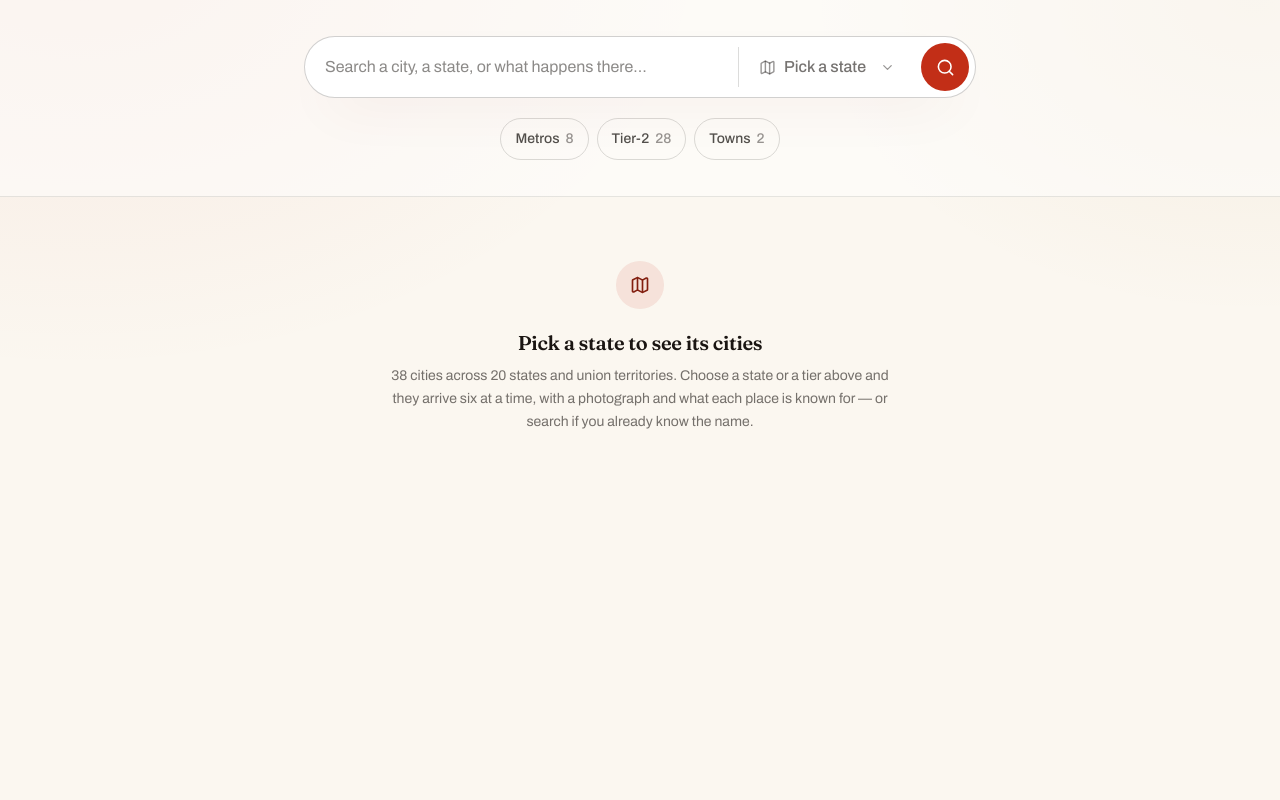
CityExplorer › goes back to the state picker when the search is cleared
This screenshot has width=1280, height=800.
Type "Mainpuri" into the search field named "Search cities" at (522, 67), box [305,37,738,97]
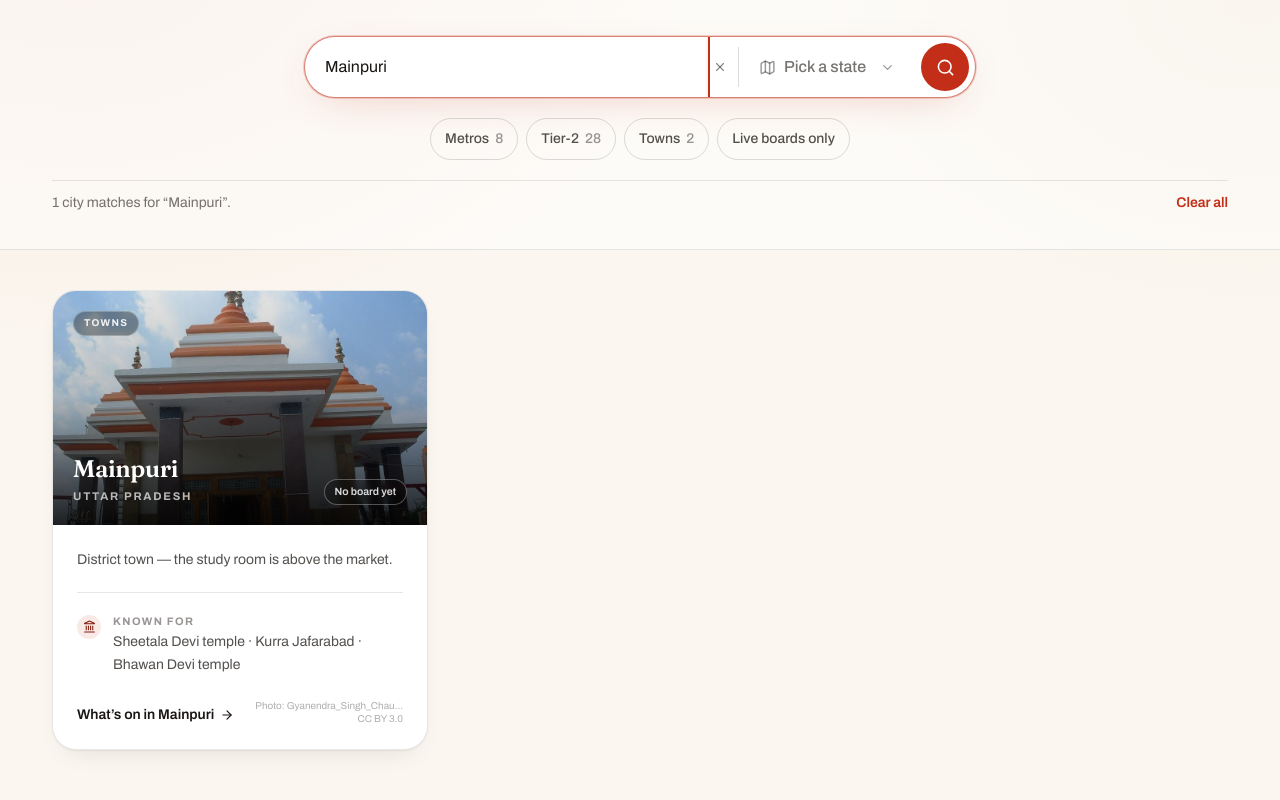
Click the button named "Clear search" at (720, 67), box [706,53,734,81]
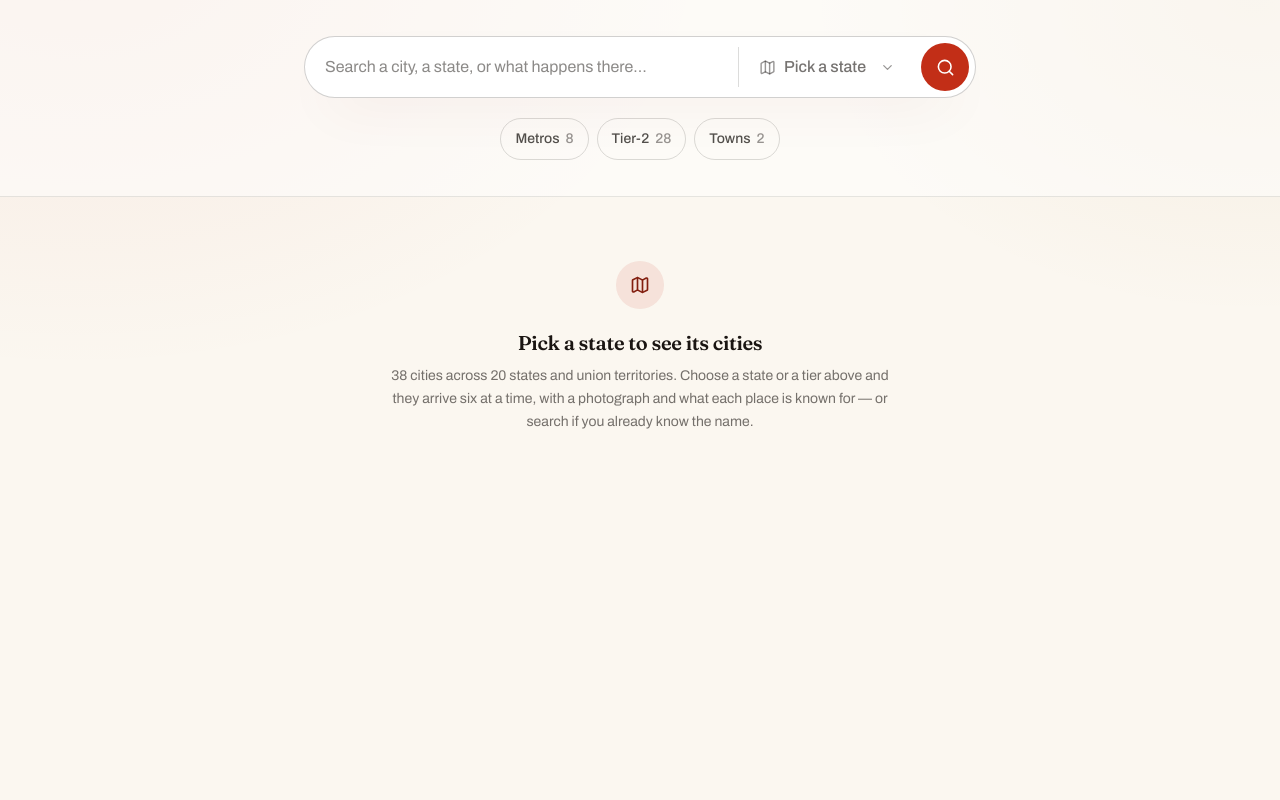
Check: the heading "Pick a state to see its cities" is shown, box [518,330,762,355]
